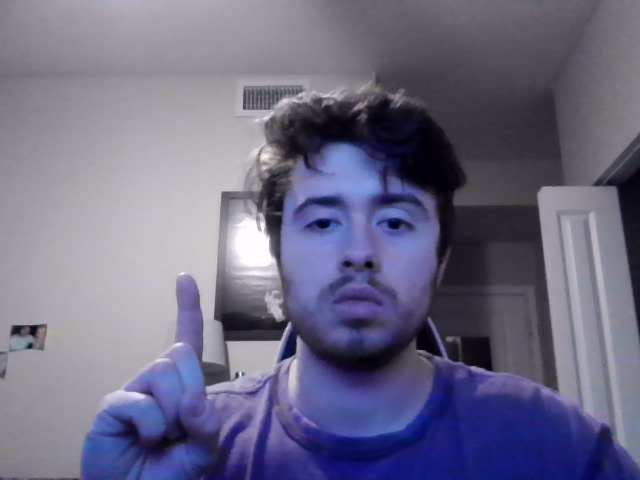d: (80, 270, 222, 480)
